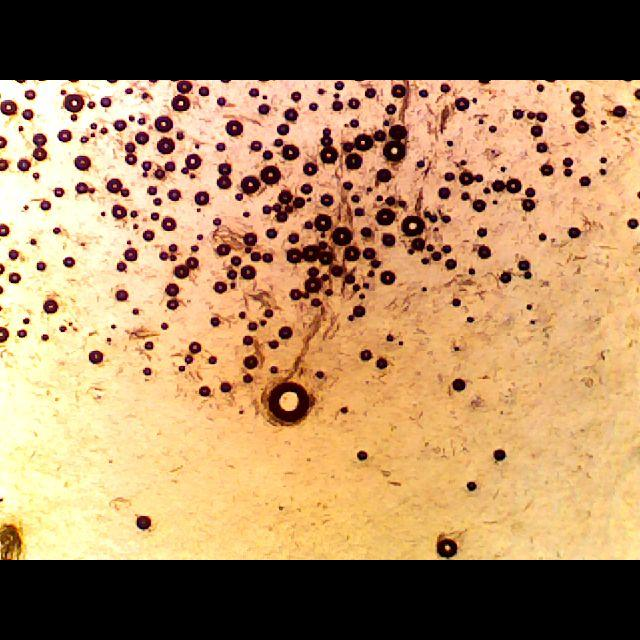microbeads: (270, 383, 314, 425), (401, 214, 425, 242), (380, 136, 408, 160), (435, 536, 461, 560)
